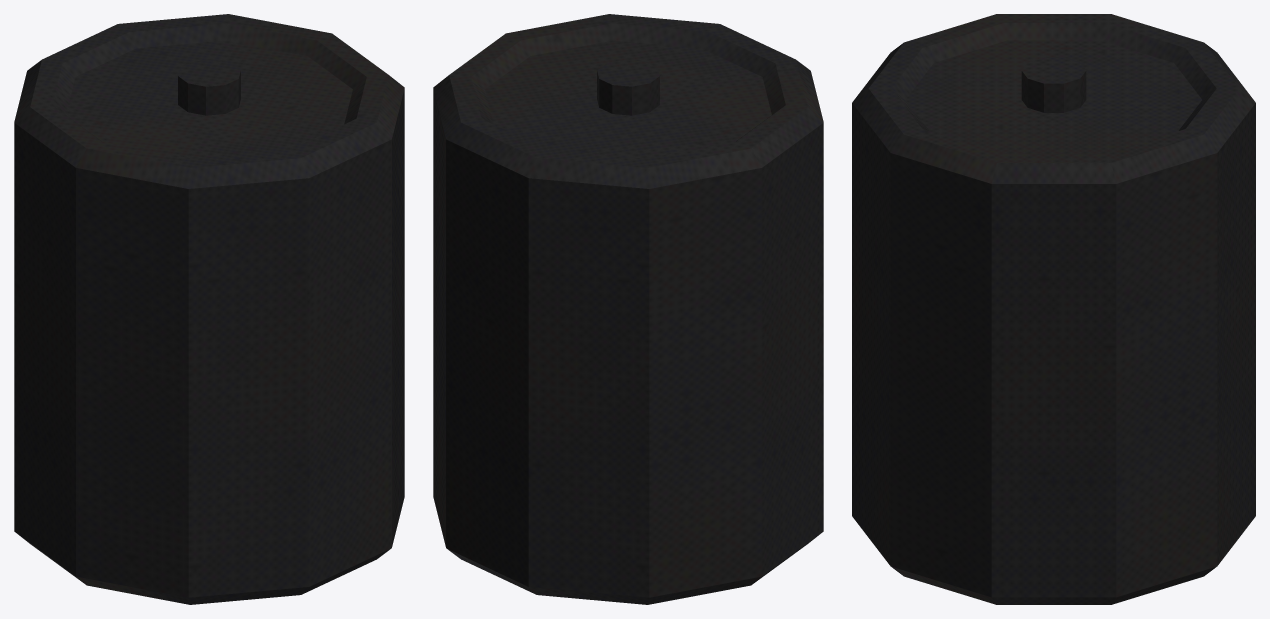
The model's file is Battery.fbx.
The picture shows the model from 3 angles, left to right: view 1: azimuth 30°, elevation 25°; view 2: azimuth 150°, elevation 25°; view 3: azimuth 270°, elevation 25°; orthographic projection.
Parts seen in each view (by area): view 1: Battery; view 2: Battery; view 3: Battery.
Part boxes in pixels (bbox=[...]): Battery: bbox=[14, 14, 404, 604]; Battery: bbox=[433, 14, 823, 604]; Battery: bbox=[852, 14, 1255, 604].
Size of the model in its own units: 0.0773 by 0.1021 by 0.0812.
Materials: 1 (1 with a texture image).
